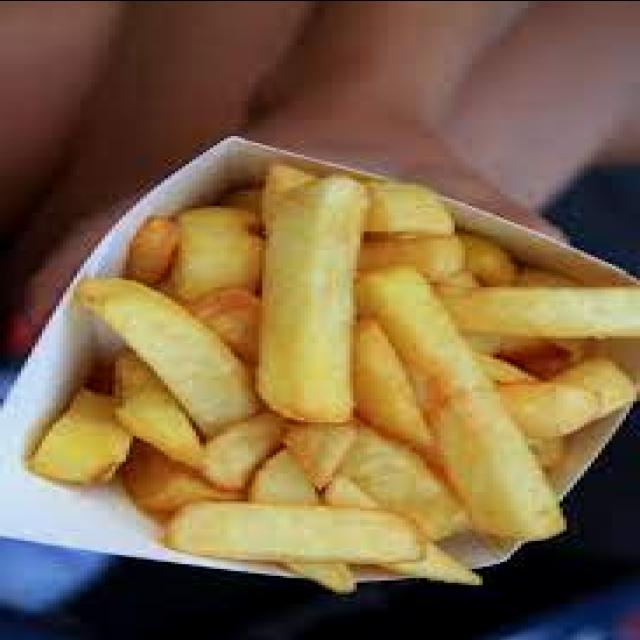kentang goreng: (353, 265, 567, 540), (252, 170, 371, 426)
